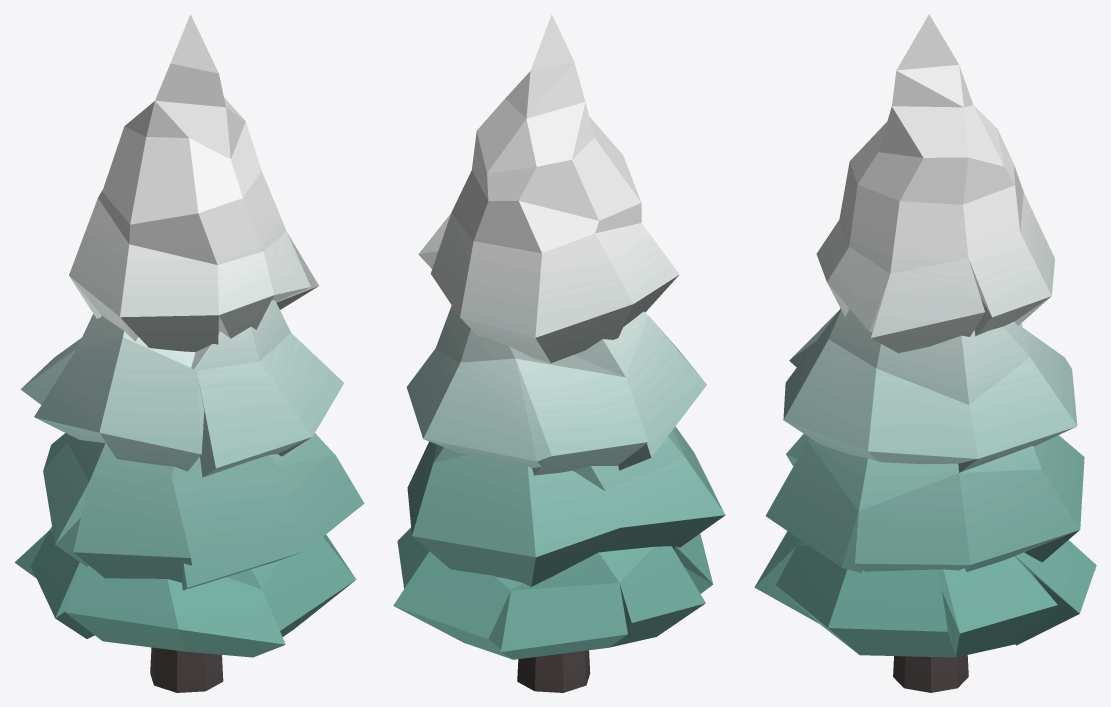
The model's file is woodland_spruce_3.glb.
3 views of the same model, side by side, from view 1: azimuth 30°, elevation 25°; view 2: azimuth 150°, elevation 25°; view 3: azimuth 270°, elevation 25° (orthographic).
Visible parts, largest first — view 1: Cone.001, Cylinder.001; view 2: Cone.001, Cylinder.001; view 3: Cone.001, Cylinder.001.
Boxes of the visible parts, x1,y1,x2,y2 form: Cone.001: (14, 14, 364, 657); Cylinder.001: (150, 647, 223, 692); Cone.001: (393, 14, 725, 659); Cylinder.001: (517, 650, 590, 692); Cone.001: (754, 14, 1096, 657); Cylinder.001: (893, 655, 968, 692).
Bounding box in the file's own units: 3.53 × 7.61 × 3.55.
1 material, 1 textured.
